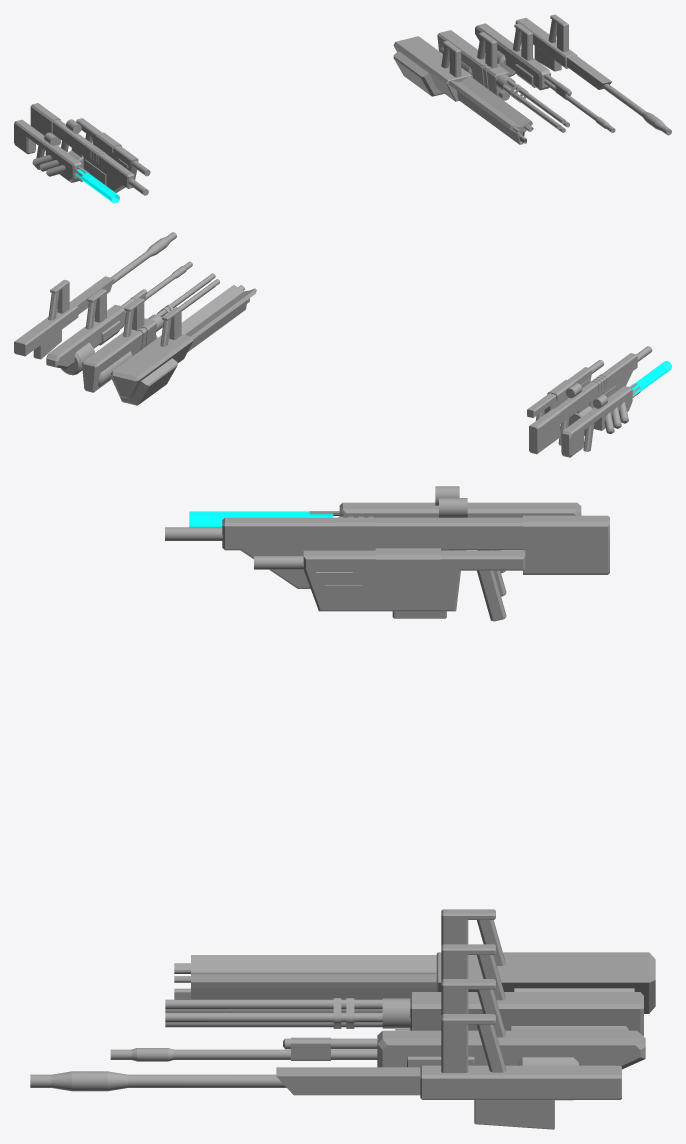
Rendered from MW Shotguns and Heavy.fbx.
The picture shows the model from 3 angles, top to bottom: view 1: azimuth 30°, elevation 25°; view 2: azimuth 150°, elevation 25°; view 3: azimuth 270°, elevation 25°; orthographic projection. The views are drawn at different scales.
Visible parts, largest first — view 1: pCube87, pCube62, pCylinder36, pCube79, pCube97, pCube70, pCube73, pCube82, pCylinder44, pCylinder51, pCube64, pCylinder45 (+6 smaller); view 2: pCube62, pCube87, pCylinder36, pCube70, pCube79, pCube97, pCube73, pCube82, pCylinder44, pCylinder51, pCylinder46, pCube76 (+6 smaller); view 3: pCube87, pCylinder36, pCube79, pCube82, pCube73, pCube62, pCube70, pCylinder44, pCube97, pCylinder45, pCylinder37, pCylinder41 (+9 smaller).
Part boxes in pixels (box(x1,y1,x2,y2)): pCube87: box(30, 103, 134, 192); pCube62: box(393, 36, 472, 101); pCylinder36: box(448, 76, 532, 144); pCube79: box(515, 17, 611, 89); pCube97: box(14, 119, 82, 182); pCube70: box(437, 30, 509, 100); pCube73: box(475, 23, 550, 90); pCube82: box(76, 118, 138, 179); pCylinder44: box(602, 83, 671, 135); pCylinder51: box(76, 168, 119, 203); pCube64: box(442, 40, 461, 77); pCylinder45: box(544, 79, 615, 132); pCube62: box(111, 334, 193, 405); pCube87: box(529, 353, 637, 454); pCylinder36: box(181, 285, 256, 351); pCube70: box(82, 318, 156, 392); pCube79: box(14, 276, 114, 356); pCube97: box(561, 386, 632, 457); pCube73: box(46, 304, 125, 368); pCube82: box(527, 367, 591, 417); pCylinder44: box(111, 232, 176, 283); pCylinder51: box(629, 361, 671, 395); pCylinder46: box(61, 343, 94, 375); pCube76: box(50, 279, 69, 313); pCube87: box(222, 515, 609, 588); pCylinder36: box(191, 955, 436, 999); pCube79: box(276, 1065, 621, 1099); pCube82: box(303, 550, 525, 611); pCube73: box(377, 1030, 645, 1069); pCube62: box(436, 952, 655, 1013); pCube70: box(410, 992, 643, 1036); pCylinder44: box(30, 1071, 286, 1091); pCube97: box(339, 502, 581, 517); pCylinder45: box(110, 1048, 377, 1061); pCylinder37: box(165, 1012, 382, 1022); pCylinder41: box(165, 999, 382, 1009).
Size of the model in its own units: 44.82 by 6.27 by 22.67.
